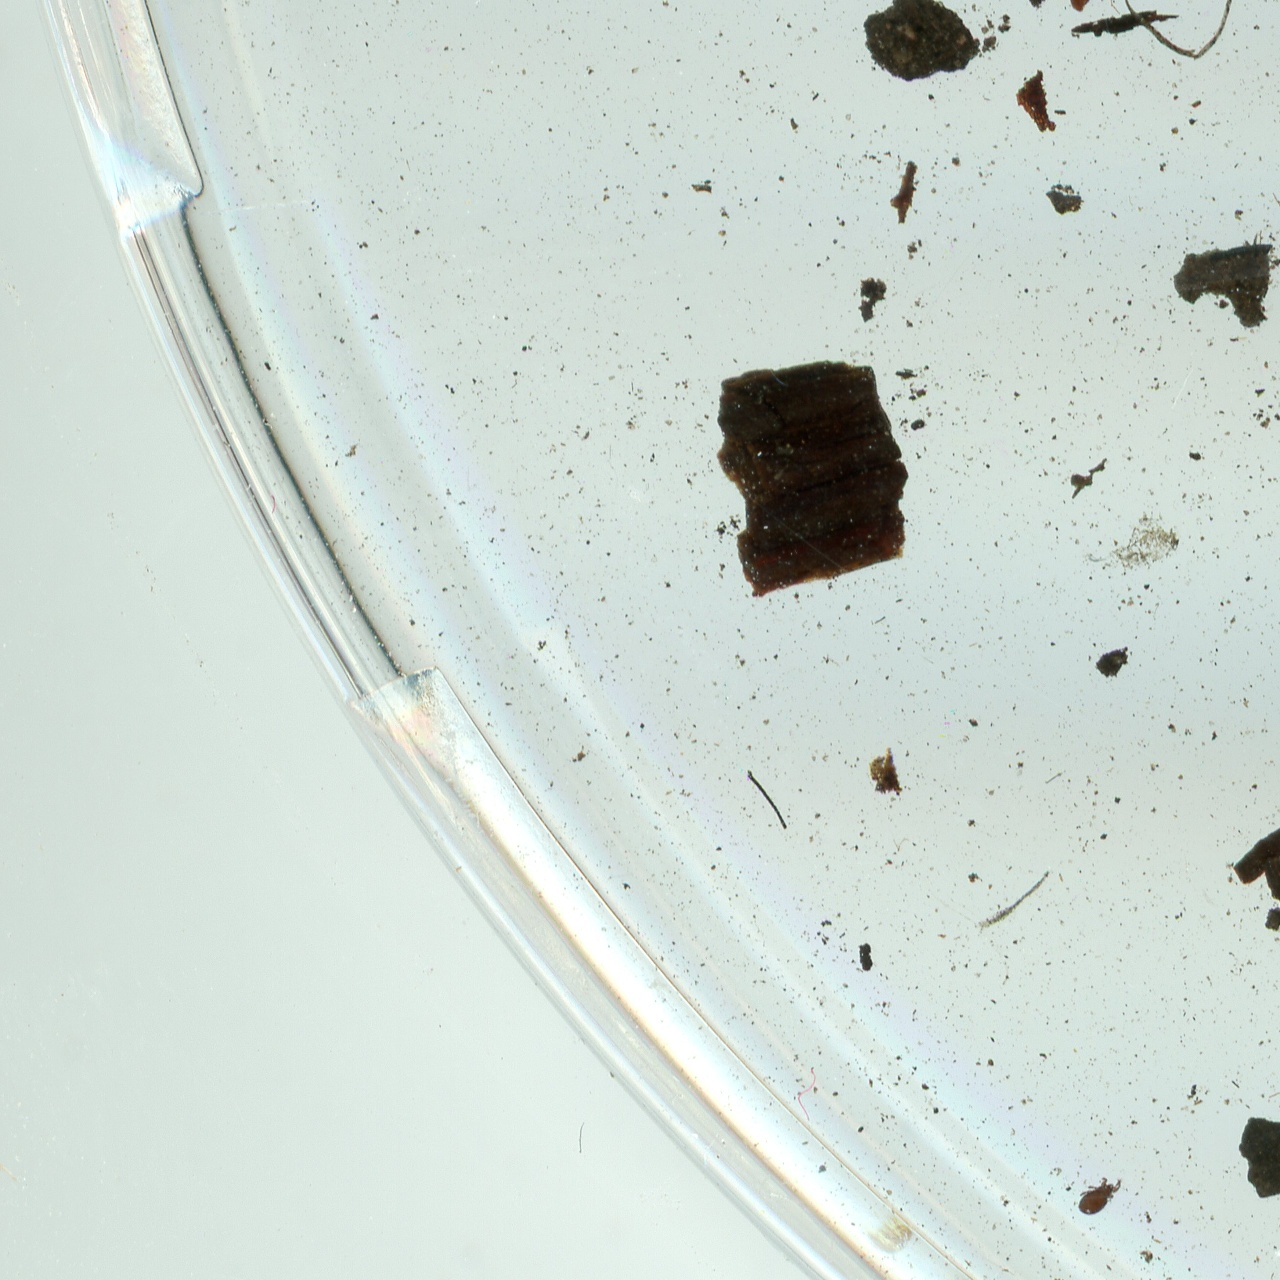arthropod: (1076, 1172, 1123, 1218)
